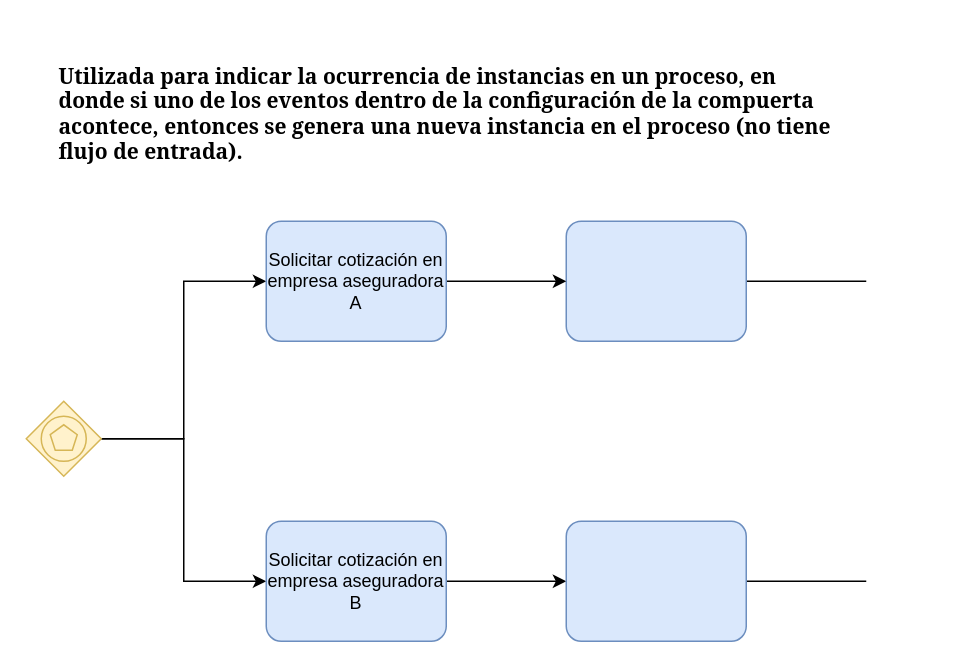
This 953x668 diagram has some shape labels left out. The shapes that lost their labels are listed below. From the top down, each one's centre as x and y in pixels, then its label:
point (655, 280): Requerimientos de normativa A
point (655, 580): Requerimiento de normativa B
